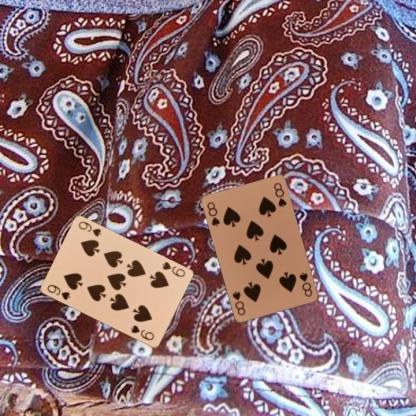8s: (204, 199, 221, 228), (297, 270, 314, 298)
9s: (44, 282, 71, 302), (159, 259, 186, 278)
